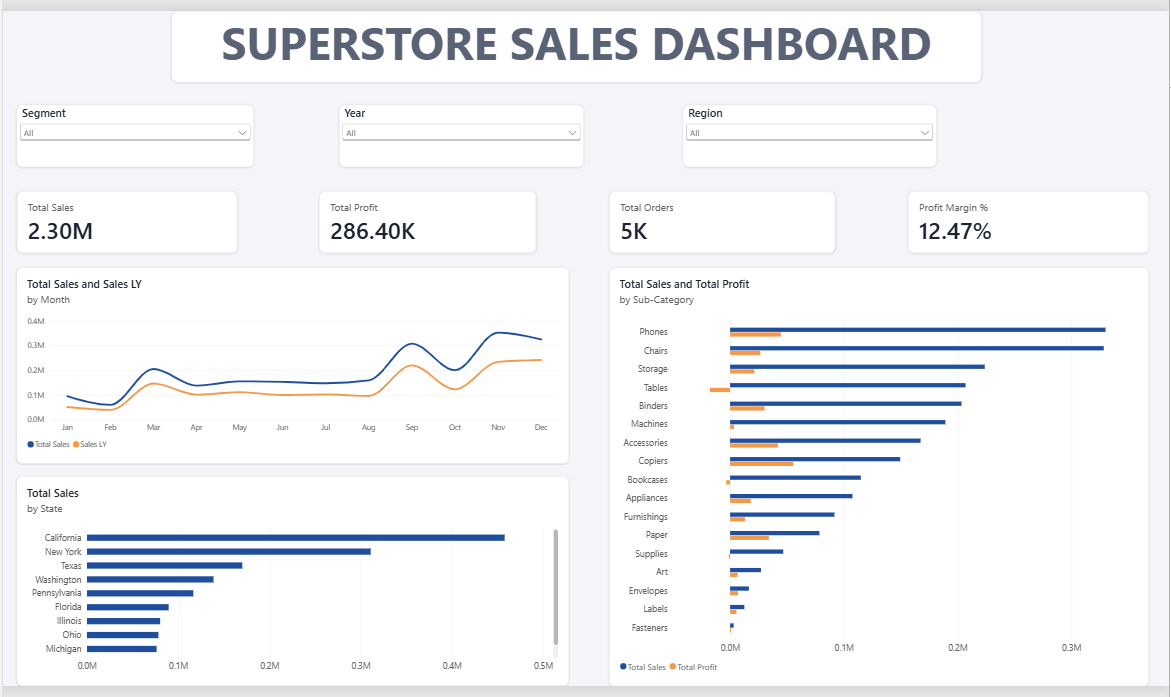

This screenshot's page, from the dashboard's own definition file:
{"tool":"powerbi","page":{"name":"Page 1","canvas":[1920,1080],"ordinal":0},"visuals":[{"type":"cardVisual","fields":{"Data":["Orders.Total Orders"]},"box":[1024,288,362,100],"z":0},{"type":"cardVisual","fields":{"Data":["Orders.Total Profit"]},"box":[560,288,348,100],"z":1000},{"type":"cardVisual","fields":{"Data":["Orders.Total Sales"]},"box":[76,288,354,100],"z":2000},{"type":"cardVisual","fields":{"Data":["Orders.Profit Margin %"]},"box":[1502,288,386,100],"z":3000},{"type":"lineChart","fields":{"Category":["Date.Month"],"Y":["Orders.Total Sales","Orders.Sales LY"]},"box":[76,410,884,314],"z":4000},{"type":"slicer","fields":{"Values":["Orders.Region"]},"box":[1142,150,406,100],"z":5000},{"type":"slicer","fields":{"Values":["Orders.Segment"]},"box":[76,150,380,100],"z":6000},{"type":"slicer","fields":{"Values":["Date.Year"]},"box":[592,150,392,100],"z":7000},{"type":"clusteredBarChart","fields":{"Category":["Orders.Category","Orders.Sub-Category"],"Y":["Orders.Total Sales","Orders.Total Profit"]},"box":[1024,410,864,670],"z":8000},{"type":"clusteredBarChart","fields":{"Category":["Orders.State"],"Y":["Orders.Total Sales"]},"box":[76,744,884,336],"z":9000},{"type":"textbox","box":[324,0,1296,114],"z":9001}]}

Visuals, with their boxes on the page's 1920x1080 design canvas (x1, y1, x2, y2). These are canvas units, not pixel positions in the 1171x697 screenshot, which may show the page scaled, cropped or inside an application window:
cardVisual - Orders.Total Orders: (left=1024, top=288, right=1386, bottom=388)
cardVisual - Orders.Total Profit: (left=560, top=288, right=908, bottom=388)
cardVisual - Orders.Total Sales: (left=76, top=288, right=430, bottom=388)
cardVisual - Orders.Profit Margin %: (left=1502, top=288, right=1888, bottom=388)
lineChart - Date.Month x Orders.Total Sales: (left=76, top=410, right=960, bottom=724)
slicer - Orders.Region: (left=1142, top=150, right=1548, bottom=250)
slicer - Orders.Segment: (left=76, top=150, right=456, bottom=250)
slicer - Date.Year: (left=592, top=150, right=984, bottom=250)
clusteredBarChart - Orders.Category x Orders.Sub-Category: (left=1024, top=410, right=1888, bottom=1080)
clusteredBarChart - Orders.State x Orders.Total Sales: (left=76, top=744, right=960, bottom=1080)
textbox: (left=324, top=0, right=1620, bottom=114)
